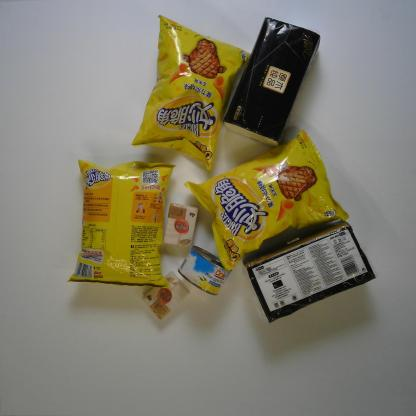Canned Food: (176, 242, 234, 298)
Puffed Food: (184, 127, 350, 272), (128, 11, 254, 171), (62, 158, 173, 290)
Tissue: (241, 220, 378, 324), (223, 13, 322, 150), (141, 268, 191, 320), (158, 199, 200, 248)
